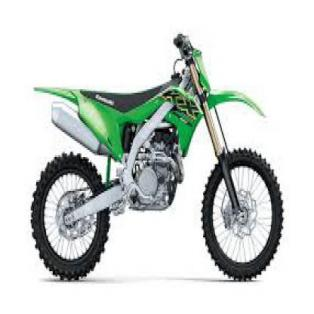Motocicleta: (24, 28, 288, 289)
